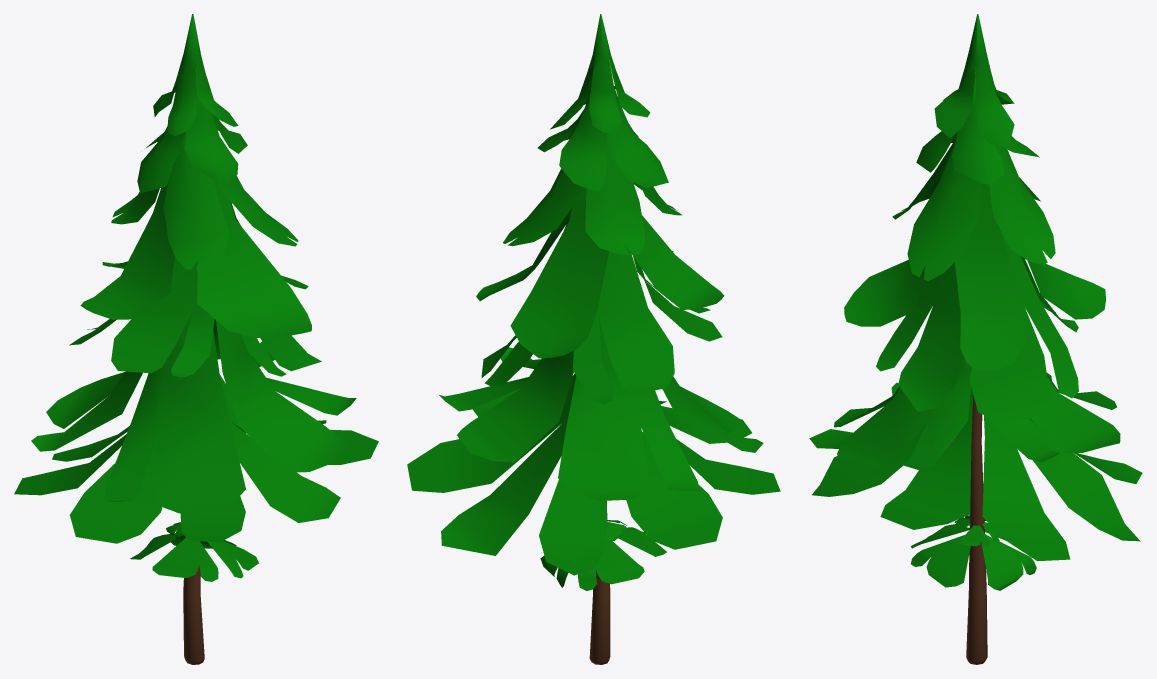
File: pineTree05.fbx
The picture shows the model from 3 angles, left to right: view 1: azimuth 30°, elevation 25°; view 2: azimuth 150°, elevation 25°; view 3: azimuth 270°, elevation 25°; orthographic projection.
Visible parts, largest first — view 1: pineTree05_LOD0; view 2: pineTree05_LOD0; view 3: pineTree05_LOD0.
Boxes of the visible parts, box(x1,y1,x2,y2) form: pineTree05_LOD0: box(14, 14, 378, 664); pineTree05_LOD0: box(407, 14, 780, 664); pineTree05_LOD0: box(809, 14, 1142, 664).
Size of what is drawn, in the model's own units: 1349 by 2675 by 1251.
